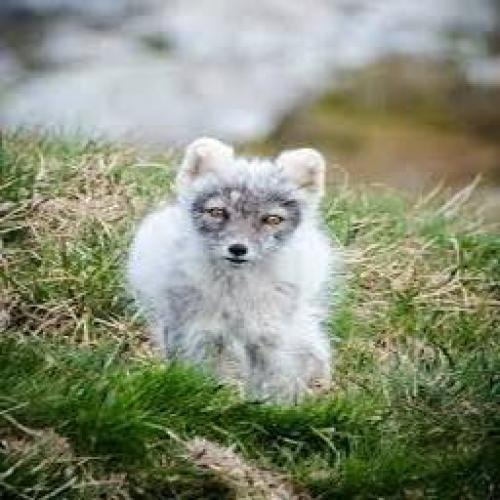arctic_fox-endangered: (131, 135, 342, 401)
